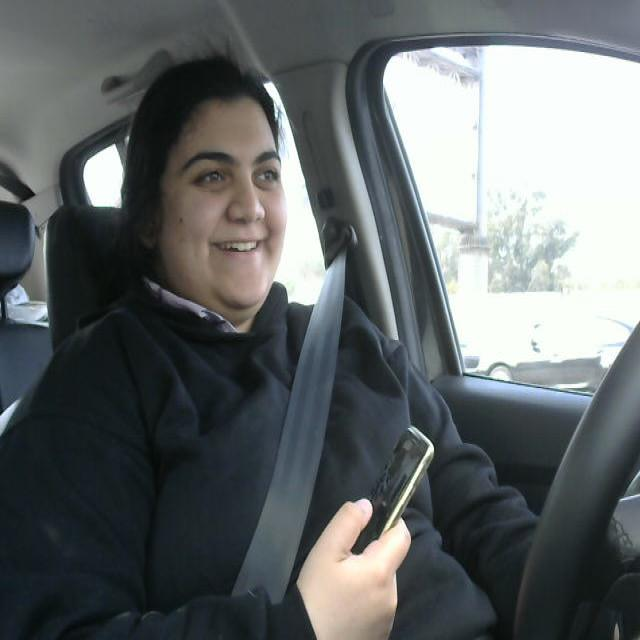mobile use: (346, 417, 438, 562)
